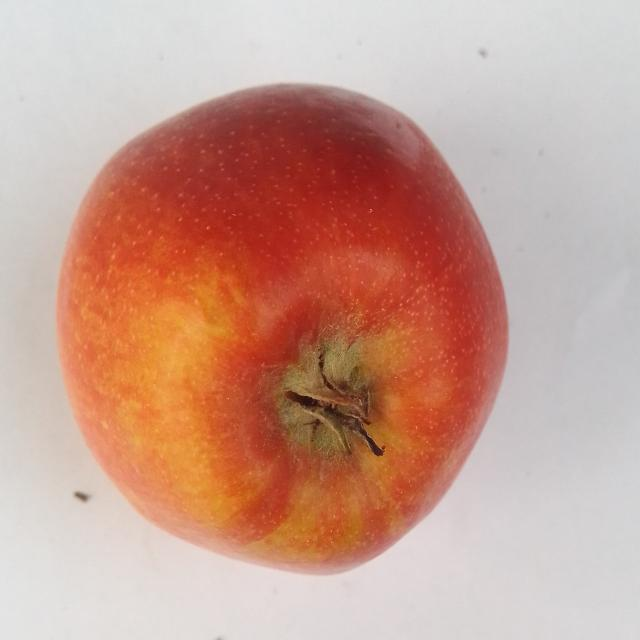Fresh Apple: (49, 73, 514, 577)
